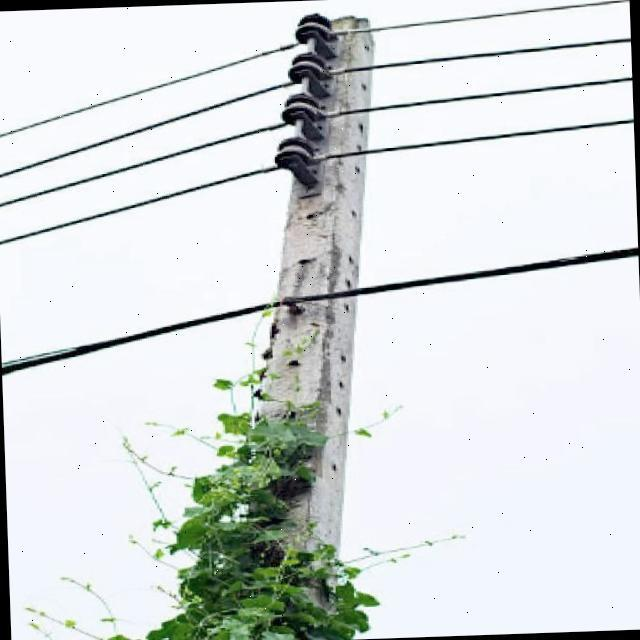critical vegetation: (156, 2, 430, 633), (114, 318, 403, 640)
